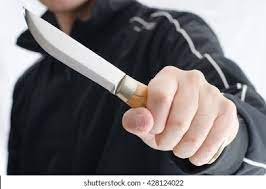weapon-unusual: (17, 5, 174, 122)
